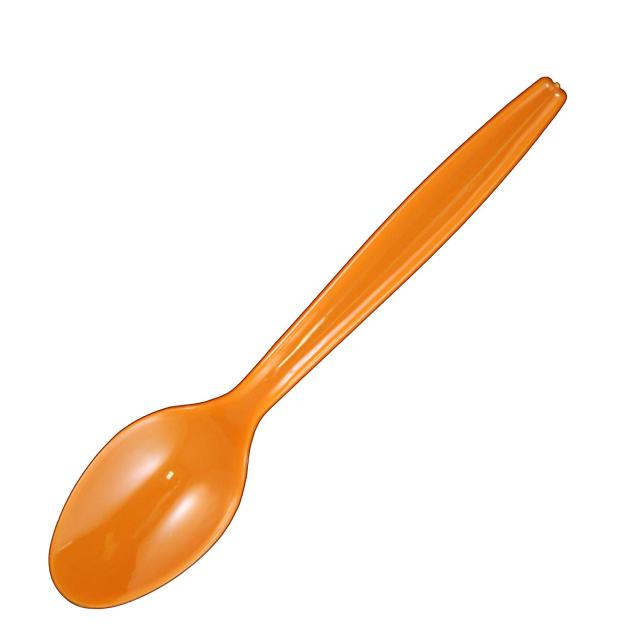spoon: (40, 62, 581, 618)
